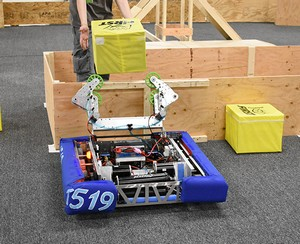cube: (89, 19, 147, 74)
